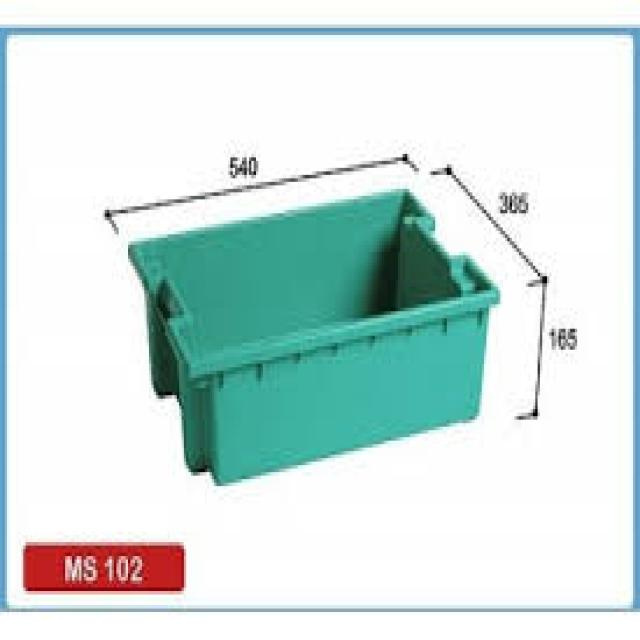basket: (118, 157, 530, 496)
